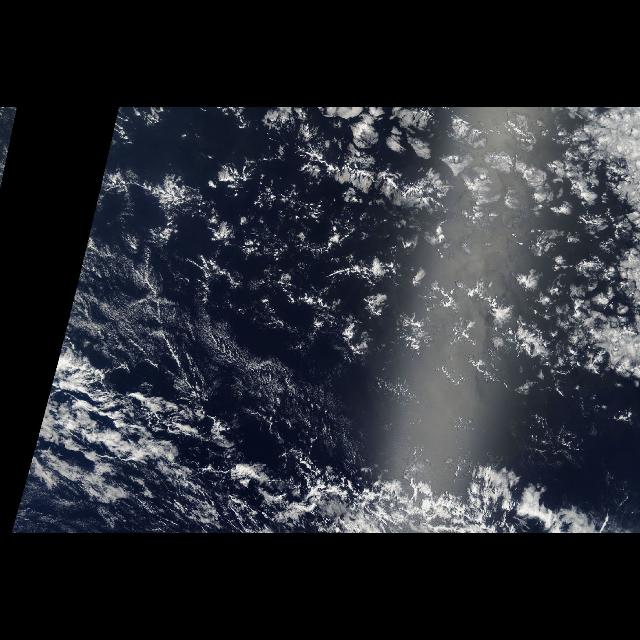Flower: (258, 107, 580, 310)
Sugar: (70, 230, 298, 408)
